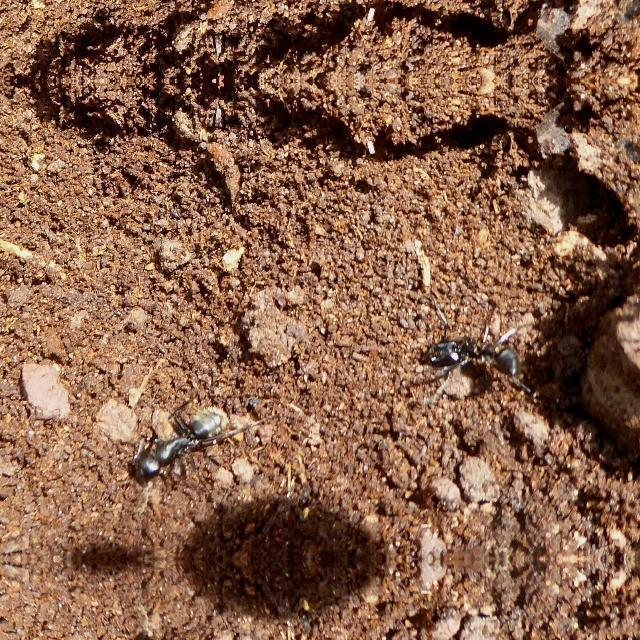Camponotus: (122, 392, 248, 498), (410, 310, 530, 394), (120, 618, 248, 640)
